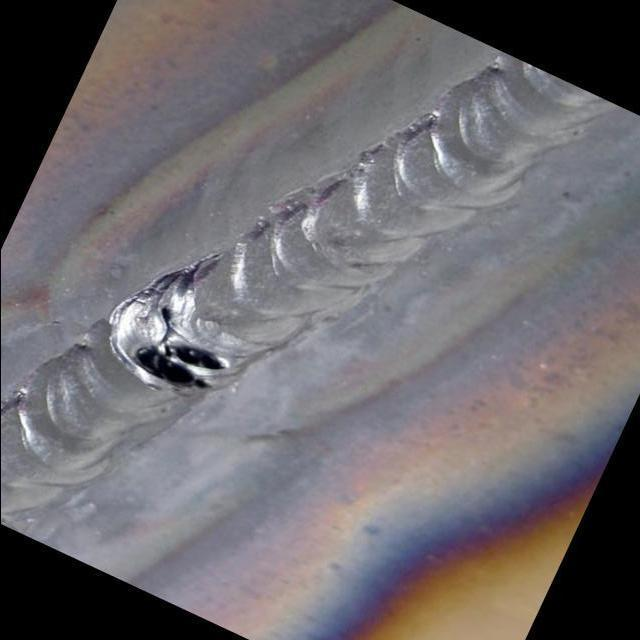defect: (124, 329, 237, 395)
